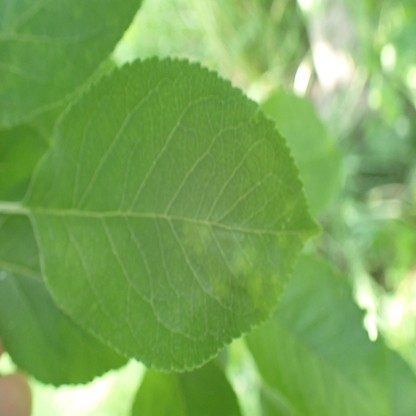scab: (182, 220, 213, 254), (230, 245, 256, 272), (280, 196, 298, 231), (204, 278, 226, 300), (248, 277, 263, 302), (277, 236, 289, 253), (271, 272, 279, 283)
